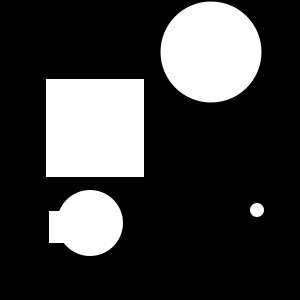circle: (46, 79, 144, 177), (49, 211, 81, 243)
rectangle: (160, 2, 262, 102), (57, 190, 123, 256), (250, 203, 264, 217)
